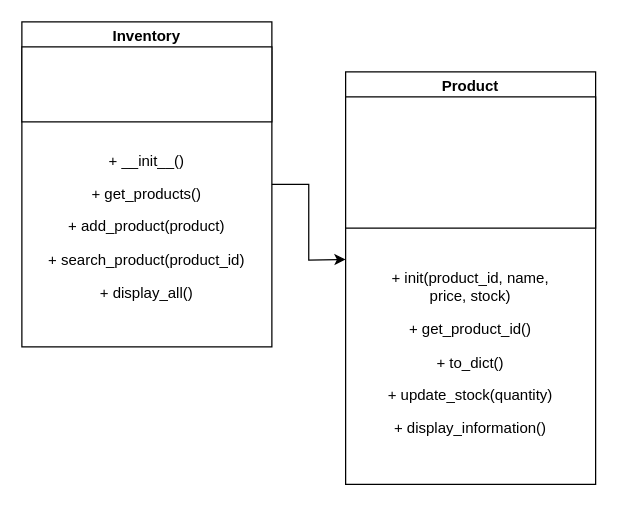
The diagram is 618 pixels wide and 506 high, and some of its shapes have lost their labels. Each missing label, with the centre of its shape:
"- __product_id: str - __name: str - __price: float - __stock: int" belongs at point (470, 162).
"- __products: list" belongs at point (146, 84).
